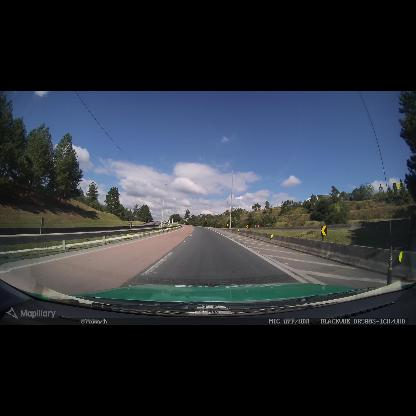R-2: (257, 225, 260, 228)
